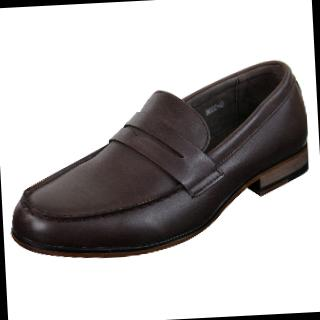loafers: (1, 53, 320, 265)
